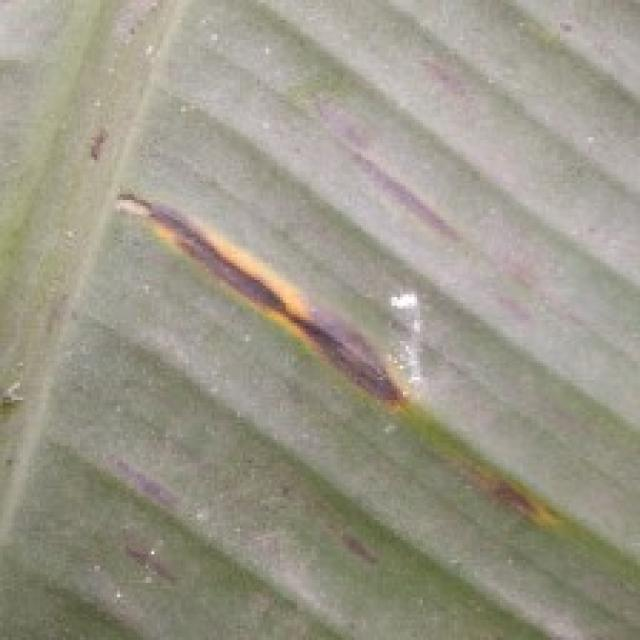Early_leaf_spot: (106, 170, 426, 456), (426, 414, 570, 560), (106, 520, 184, 589), (77, 123, 127, 189), (337, 511, 374, 584)
